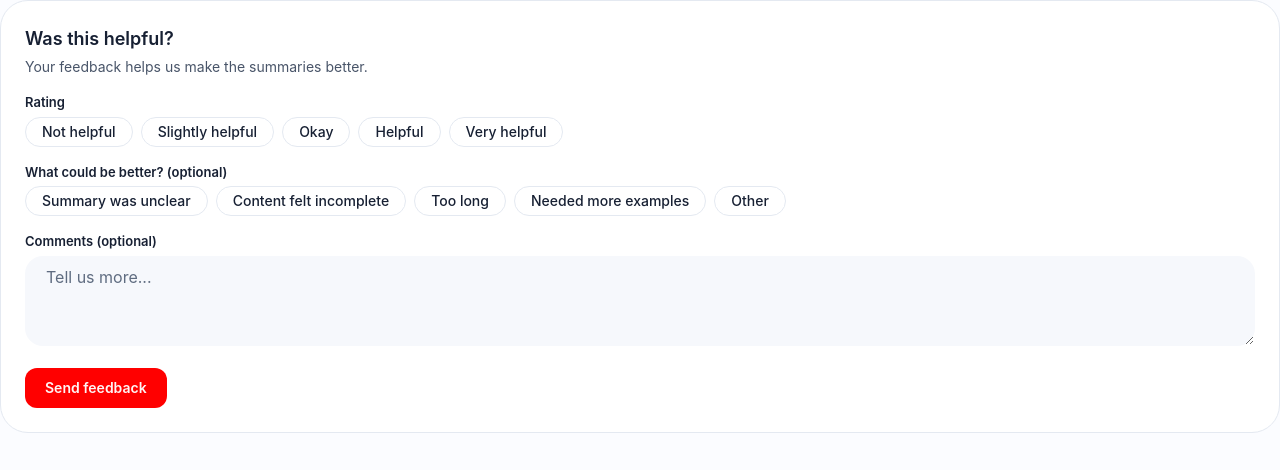
Test: FeedbackForm › shows a specific message when the analysis is not found
Click the radio button labelled "Helpful" at (400, 132), box [358,116,441,146]
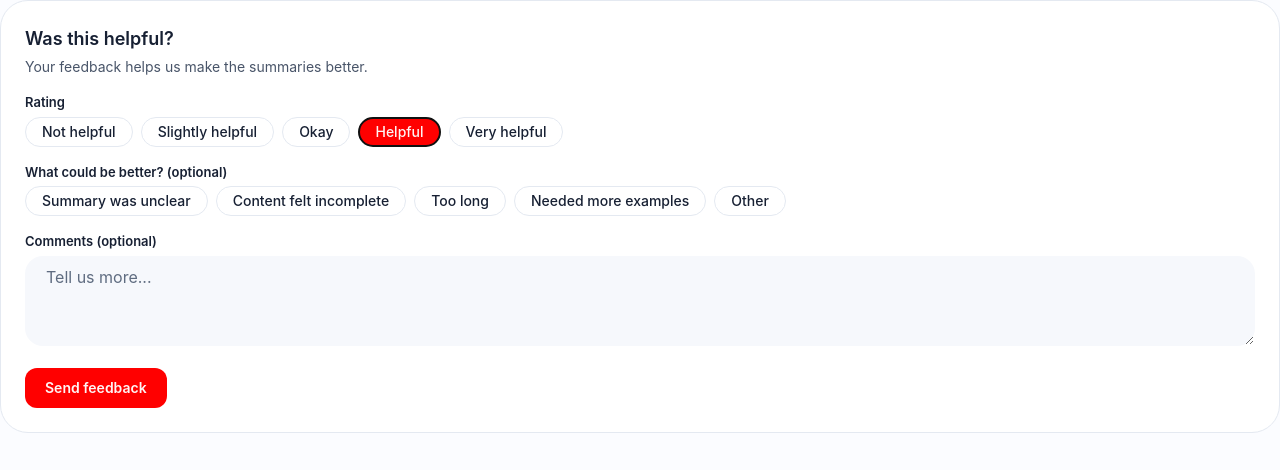
Click the button "Send feedback" at (96, 388), box [25,368,167,408]
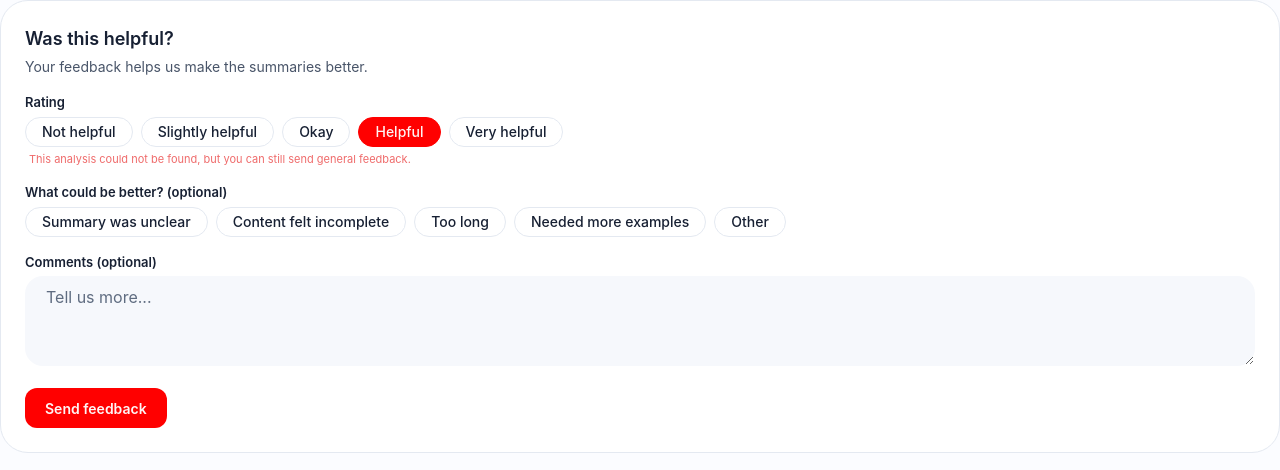
Now the text "This analysis could not be found, but you can still send general feedback." is shown, box [29,152,411,166]
